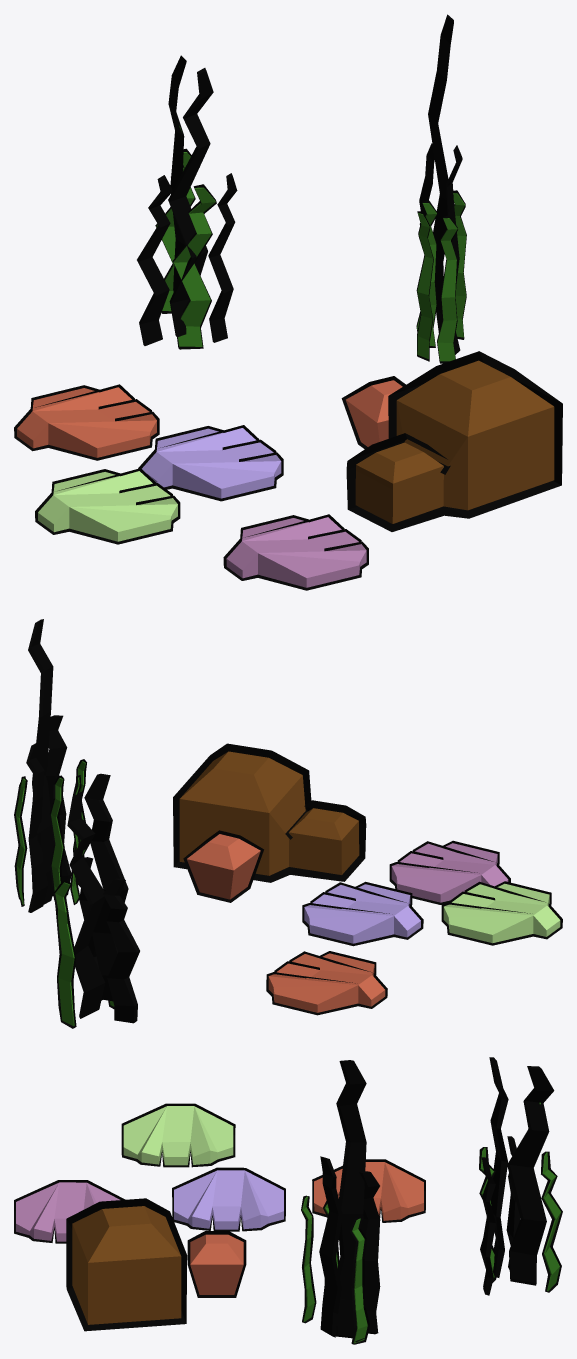
Rendered from details.fbx.
3 renders of one model, top to bottom at view 1: azimuth 30°, elevation 25°; view 2: azimuth 150°, elevation 25°; view 3: azimuth 270°, elevation 25°, orthographic. The views are drawn at different scales.
Visible parts, largest first — view 1: Cube, Plane.006, Plane.007, Plane.002, Plane.003, Plane, Plane.001, Cube.001; view 2: Cube, Plane.006, Plane.007, Plane.001, Plane.003, Plane.002, Plane, Cube.001; view 3: Cube, Plane.007, Plane.006, Plane.003, Plane.001, Plane, Cube.001, Plane.002.
Boxes of the visible parts, x1,y1,x2,y2 form: Cube: (346,351,562,531); Plane.006: (137,55,237,349); Plane.007: (416,14,466,363); Plane.002: (14,384,159,460); Plane.003: (35,468,180,544); Plane: (223,514,368,590); Plane.001: (138,425,283,501); Cube.001: (341,376,405,449); Cube: (173,743,366,882); Plane.006: (54,773,139,1028); Plane.007: (14,619,86,912); Plane.001: (302,881,423,946); Plane.003: (441,881,562,945); Plane.002: (266,951,387,1015); Plane: (389,840,510,904); Cube.001: (183,830,263,902); Cube: (66,1198,187,1331); Plane.007: (301,1060,380,1344); Plane.006: (479,1057,562,1295); Plane.003: (121,1103,235,1167); Plane.001: (172,1167,285,1231); Plane: (14,1180,124,1243); Cube.001: (187,1231,246,1297); Plane.002: (312,1159,425,1222).
Bounding box in the file's own units: 129 × 82.05 × 138.
